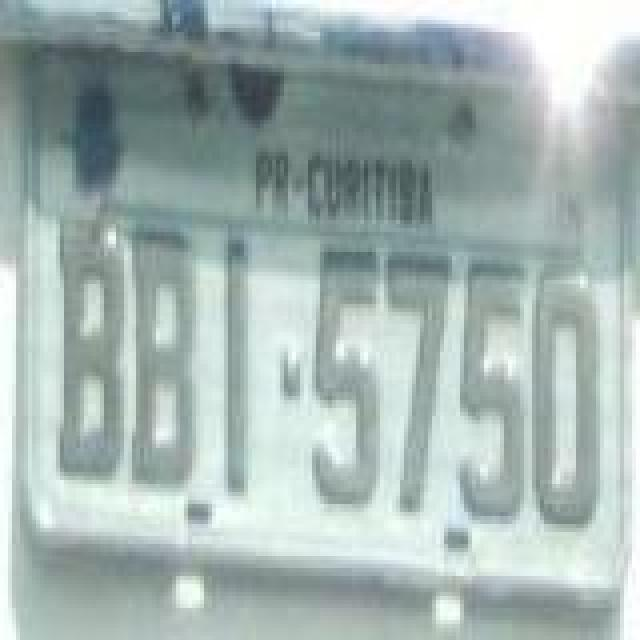1: (222, 240, 250, 496)
5: (308, 242, 380, 510), (456, 258, 528, 526)
7: (386, 250, 454, 518)
B: (56, 216, 128, 488), (132, 220, 204, 492)
O: (534, 270, 602, 530)
